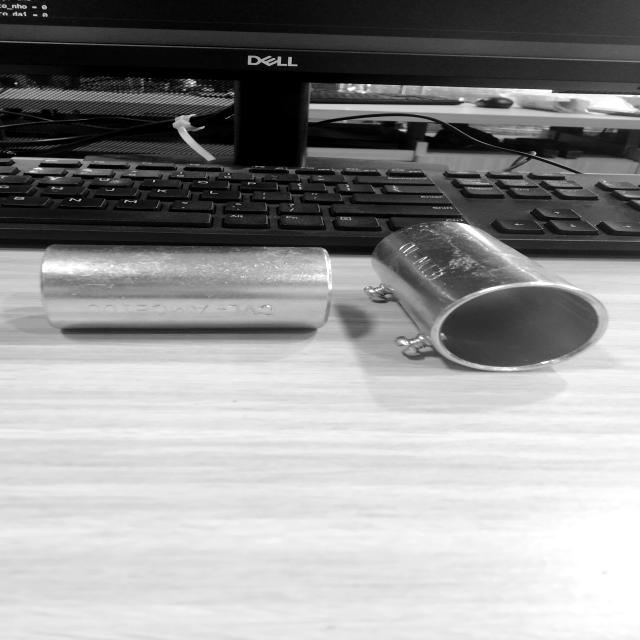Co_Lon: (353, 205, 622, 397)
Co_Nho: (40, 245, 332, 332)
